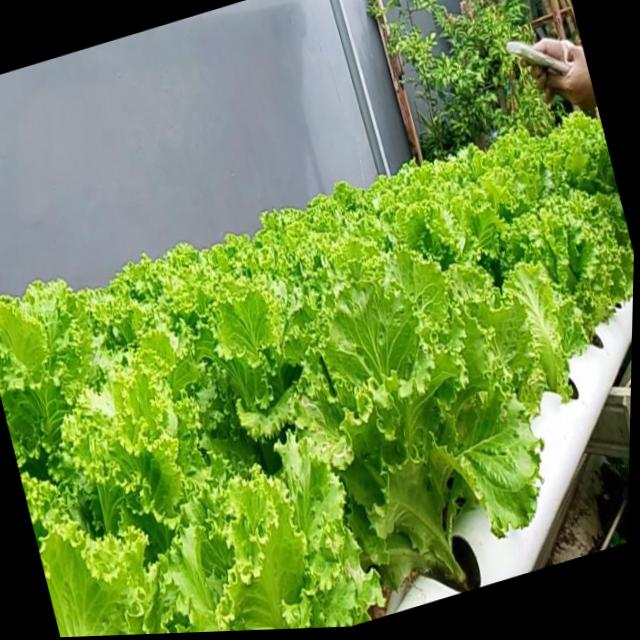Mature: (0, 138, 634, 637), (299, 288, 510, 586), (477, 177, 631, 395)
